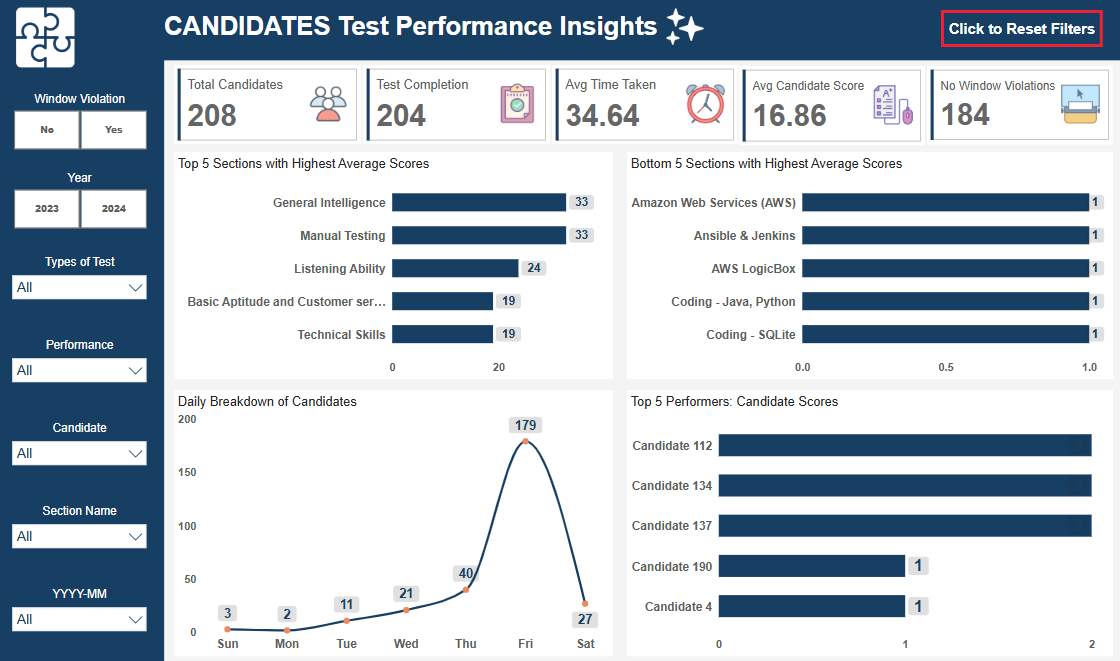

This screenshot's page, from the dashboard's own definition file:
{"tool":"powerbi","page":{"name":" Page 2","canvas":[1520,900],"ordinal":1},"visuals":[{"type":"shape","box":[214.3,0,1305.7,82.9],"z":0},{"type":"shape","box":[0,0,228.6,900],"z":1000},{"type":"cardVisual","title":"Total Candidates","fields":{"Data":["Measures Table.Total Candidates"]},"box":[241.4,88.6,252.9,107.1],"z":2000},{"type":"cardVisual","fields":{"Data":["Measures Table.Average Candidate Score"]},"box":[1006.1,90,251.4,107.1],"z":3000},{"type":"cardVisual","fields":{"Data":["Measures Table.Average Time Taken"]},"box":[752.1,88.6,251.4,107.1],"z":4000},{"type":"cardVisual","fields":{"Data":["Measures Table.Test Completion Count"]},"box":[496.8,88.6,252.9,107.1],"z":5000},{"type":"cardVisual","fields":{"Data":["Measures Table.Total No Window Violations"]},"box":[1260,90,251.4,105.7],"z":6000},{"type":"image","box":[0,0,135.1,104.1],"z":7000},{"type":"image","box":[879.2,6.2,105.6,60.6],"z":8000},{"type":"actionButton","title":"CANDIDATES Test Performance Insights","box":[228.3,17.1,678.8,49.7],"z":9000},{"type":"slicer","title":"Window Violation ","fields":{"Values":["Section Level Report.Window_Violation - 2"]},"box":[0,127.1,228.6,82.9],"z":10000},{"type":"slicer","title":"Year ","fields":{"Values":["Calendar date.Year"]},"box":[0,233.6,228.6,82.9],"z":11000},{"type":"slicer","title":"Types of Test","fields":{"Values":["Section Level Report.Test_Name"]},"box":[12.9,340,201.4,88.6],"z":12000},{"type":"slicer","title":"Performance","fields":{"Values":["Section Level Report.Performance_Category"]},"box":[12.9,452.1,201.4,88.6],"z":13000},{"type":"slicer","title":"Candidate","fields":{"Values":["Section Level Report.Candidate_Feedback"]},"box":[12.9,564.3,201.4,88.6],"z":14000},{"type":"slicer","title":"Section Name","fields":{"Values":["Section Level Report.Section_Name"]},"box":[12.9,676.4,201.4,88.6],"z":15000},{"type":"slicer","title":"YYYY-MM","fields":{"Values":["Calendar date.Year-Month"]},"box":[12.9,788.6,201.4,88.6],"z":16000},{"type":"barChart","title":"Bottom 5 Sections with Highest Average Scores","fields":{"Category":["Section Level Report.Section_Name"],"Y":["Measures Table.Average Candidate Score"]},"box":[854.3,207.1,657.1,307.1],"z":17000},{"type":"barChart","title":"Top 5 Sections with Highest Average Scores","fields":{"Category":["Section Level Report.Section_Name"],"Y":["Measures Table.Average Candidate Score"]},"box":[241.4,207.1,592.9,307.1],"z":18000},{"type":"lineChart","title":"Daily Breakdown of Candidates","fields":{"Category":["Calendar date.Day"],"Y":["Measures Table.Total Candidates"]},"box":[241.4,528.6,592.9,360],"z":19000},{"type":"barChart","title":"Top 5 Performers: Candidate Scores","fields":{"Y":["Measures Table.Total Candidates"],"Category":["Section Level Report.Masked Full Name"]},"box":[854,529,657,360],"z":20000},{"type":"actionButton","box":[1278.6,14.3,218.6,50],"z":21000}]}

Visuals, with their boxes in screenshot pixels (x1, y1, x2, y2), scaled from the page's 1520x900 canvas onto the 1120x661 screenshot:
shape: bbox(158, 0, 1119, 61)
shape: bbox(0, 0, 168, 660)
"Total Candidates" cardVisual: bbox(178, 65, 364, 144)
cardVisual - Measures Table.Average Candidate Score: bbox(741, 66, 927, 145)
cardVisual - Measures Table.Average Time Taken: bbox(554, 65, 739, 144)
cardVisual - Measures Table.Test Completion Count: bbox(366, 65, 552, 144)
cardVisual - Measures Table.Total No Window Violations: bbox(928, 66, 1114, 144)
image: bbox(0, 0, 100, 76)
image: bbox(648, 5, 726, 49)
"CANDIDATES Test Performance Insights" actionButton: bbox(168, 13, 668, 49)
"Window Violation " slicer: bbox(0, 93, 168, 154)
"Year " slicer: bbox(0, 172, 168, 232)
"Types of Test" slicer: bbox(10, 250, 158, 315)
"Performance" slicer: bbox(10, 332, 158, 397)
"Candidate" slicer: bbox(10, 414, 158, 480)
"Section Name" slicer: bbox(10, 497, 158, 562)
"YYYY-MM" slicer: bbox(10, 579, 158, 644)
"Bottom 5 Sections with Highest Average Scores" barChart: bbox(629, 152, 1114, 378)
"Top 5 Sections with Highest Average Scores" barChart: bbox(178, 152, 615, 378)
"Daily Breakdown of Candidates" lineChart: bbox(178, 388, 615, 653)
"Top 5 Performers: Candidate Scores" barChart: bbox(629, 389, 1113, 653)
actionButton: bbox(942, 11, 1103, 47)
